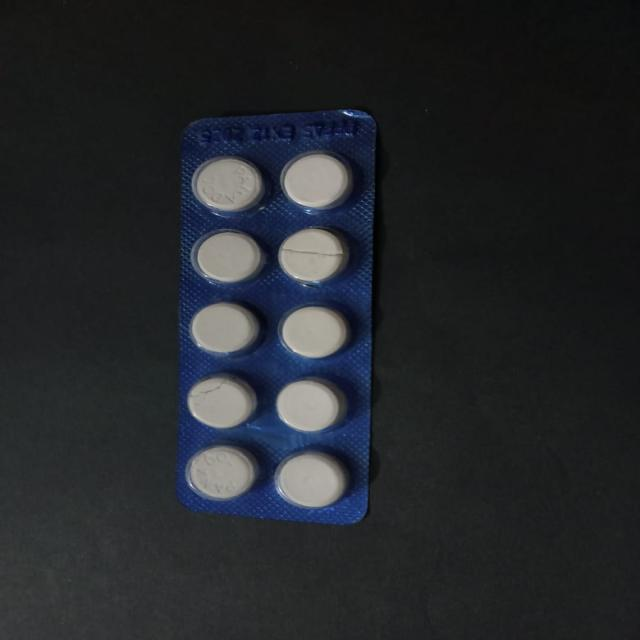defect: (275, 224, 357, 288), (185, 372, 261, 432)
